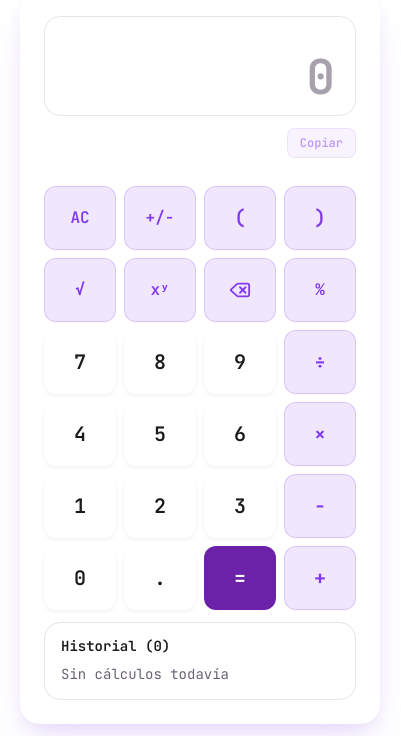
Test case: App › reutiliza una expresión del historial
What coordinates should you click on to do the following:
click the button "2"
I would click on:
 (160, 506)
Its box is [124, 474, 196, 538].
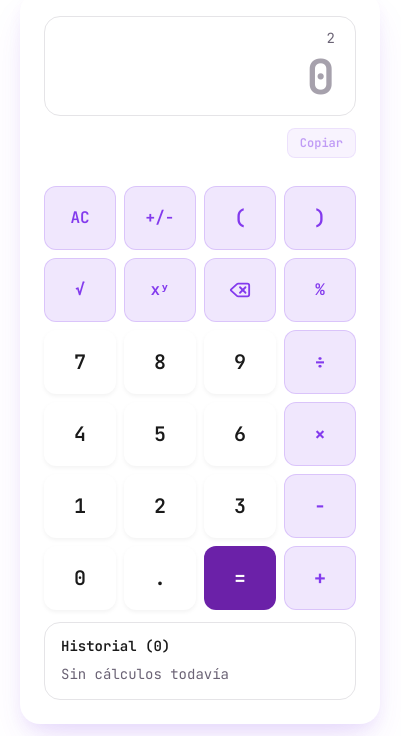
What coordinates should you click on to do the following:
click the button "+"
I would click on:
 (320, 578)
Its box is [284, 546, 356, 610].
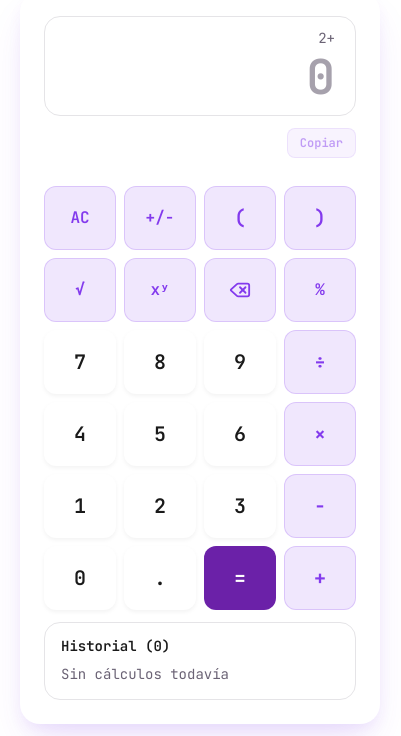
What coordinates should you click on to do the following:
click the button "2"
I would click on:
 (160, 506)
Its box is [124, 474, 196, 538].
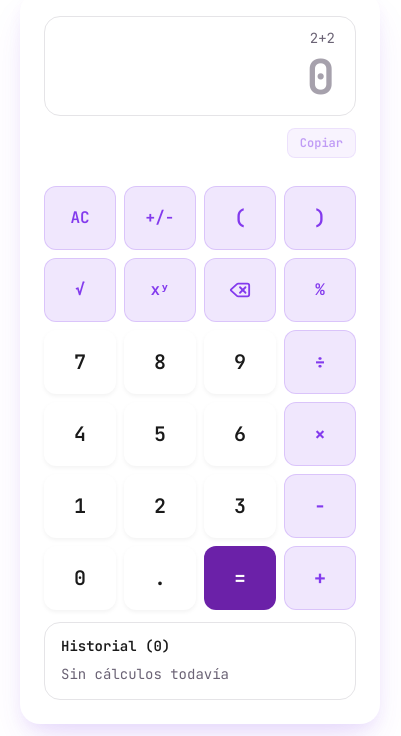
What coordinates should you click on to do the following:
click the button "="
I would click on:
 (240, 578)
Its box is [204, 546, 276, 610].
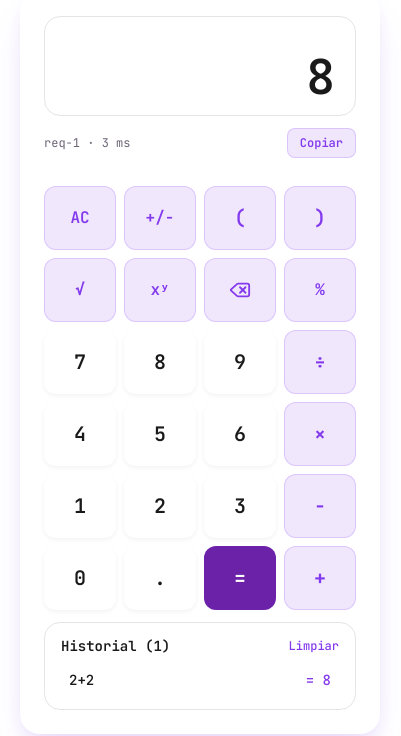
Expected: the button "8" is shown, [124, 330, 196, 394]
What coordinates should you click on to do the following:
click the button "2+2 = 8"
I would click on:
 (82, 680)
Its box is [61, 665, 339, 697].
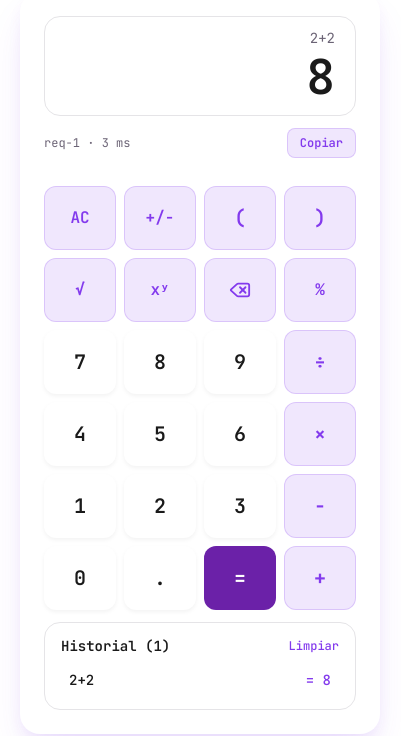
Now the 1st text "2+2" is shown, box [310, 29, 335, 47]
